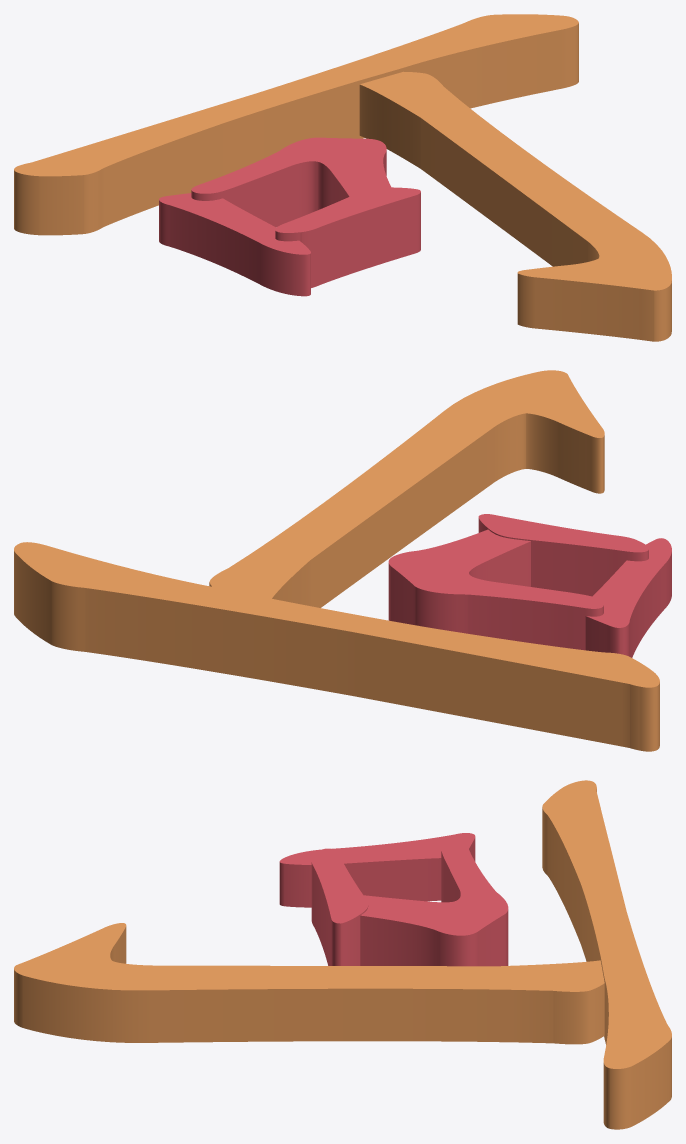
The model's file is hanzi77.fbx.
The picture shows the model from 3 angles, top to bottom: view 1: azimuth 30°, elevation 25°; view 2: azimuth 150°, elevation 25°; view 3: azimuth 270°, elevation 25°; orthographic projection. The views are drawn at different scales.
Visible parts, largest first — view 1: Curve, Curve.004, Curve.002, Curve.003, Curve.001; view 2: Curve, Curve.004, Curve.002, Curve.003, Curve.001; view 3: Curve.004, Curve, Curve.002, Curve.001, Curve.003.
Part boxes in pixels (x1,y1,x2,y2): Curve: [14, 14, 578, 235]; Curve.004: [359, 71, 671, 341]; Curve.002: [191, 137, 390, 227]; Curve.003: [275, 187, 420, 287]; Curve.001: [159, 193, 310, 296]; Curve: [14, 542, 659, 751]; Curve.004: [209, 370, 604, 607]; Curve.002: [388, 529, 603, 650]; Curve.003: [478, 514, 648, 596]; Curve.001: [585, 538, 671, 657]; Curve.004: [14, 923, 604, 1044]; Curve: [542, 780, 671, 1129]; Curve.002: [360, 839, 508, 966]; Curve.001: [279, 833, 475, 907]; Curve.003: [311, 848, 368, 965].
Size of the model in its own units: 23.48 by 22.63 by 2.3.
